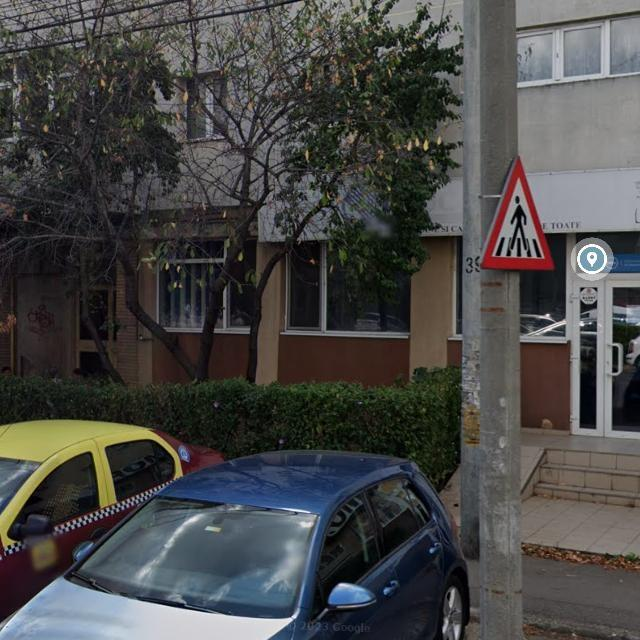warn_crosswalk: (477, 158, 555, 270)
